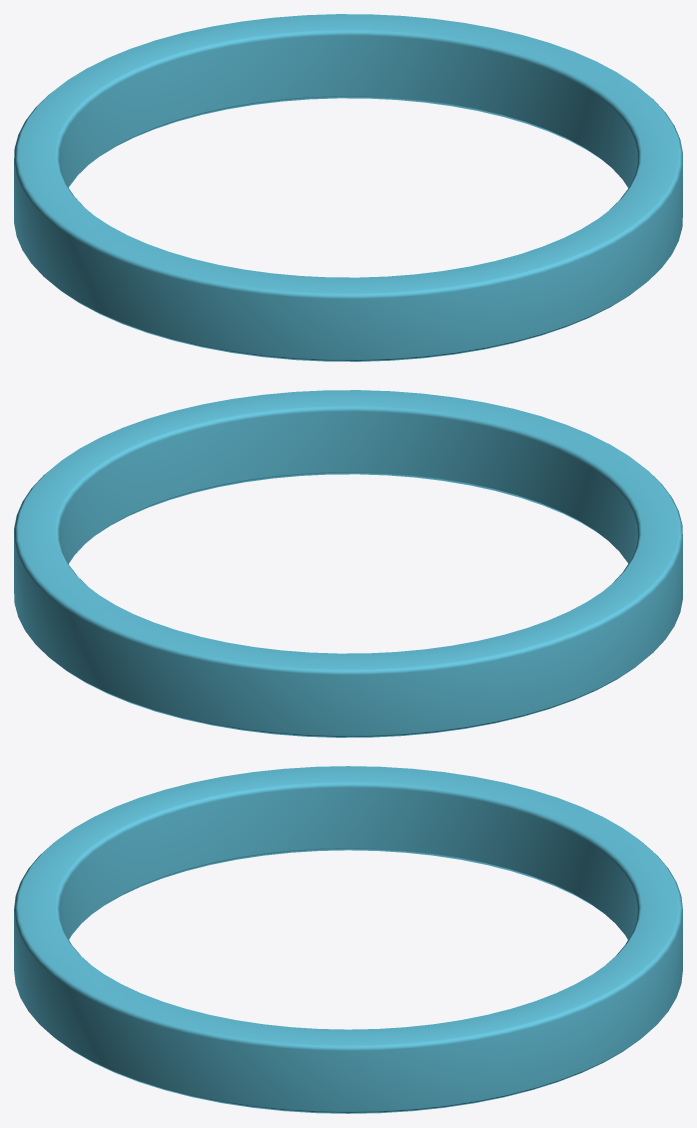
3 views of the same model, one above another, from view 1: azimuth 30°, elevation 25°; view 2: azimuth 150°, elevation 25°; view 3: azimuth 270°, elevation 25° (orthographic).
Parts seen in each view (by area): view 1: seal_body; view 2: seal_body; view 3: seal_body.
Boxes of the visible parts, box(x1,y1,x2,y2) form: seal_body: box(14, 14, 682, 361); seal_body: box(14, 390, 682, 737); seal_body: box(14, 766, 682, 1113).
Bounding box in the file's own units: 0.1397 × 0.0159 × 0.1397.
